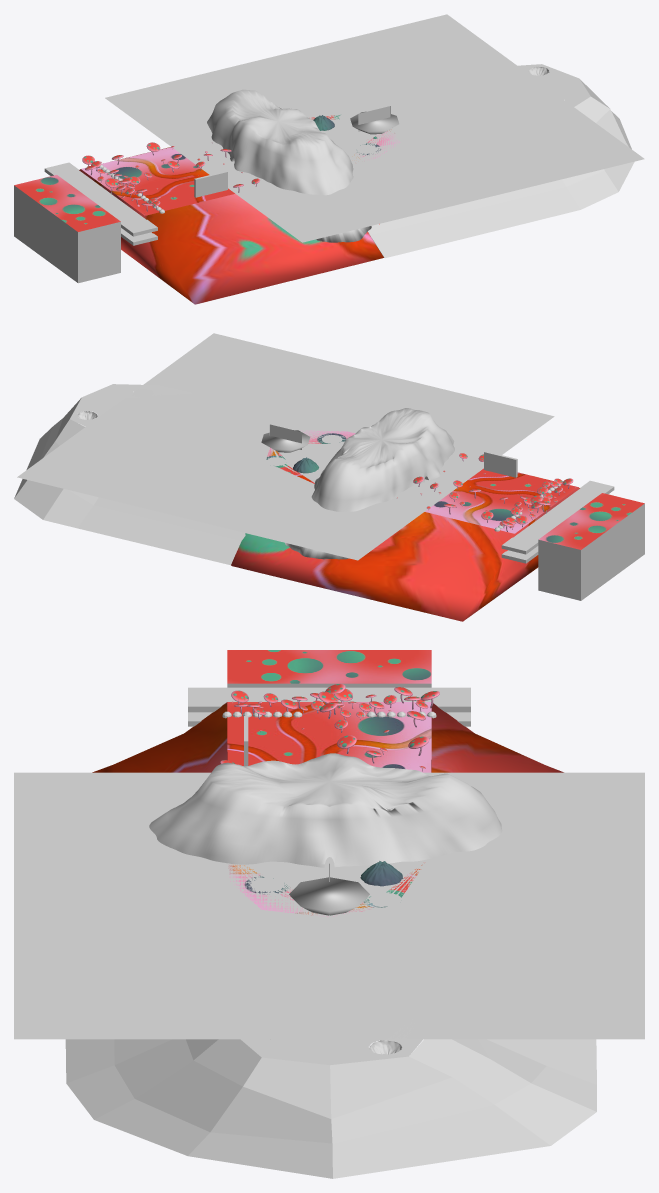
File: champi.glb
The picture shows the model from 3 angles, top to bottom: view 1: azimuth 30°, elevation 25°; view 2: azimuth 150°, elevation 25°; view 3: azimuth 270°, elevation 25°; orthographic projection. The views are drawn at different scales.
Parts seen in each view (by area): view 1: Plane.001, BaseMontagne.001, Montagne.001, BaseMontagne, SOL, Platfomre_Fin.001, Riviere.001, Floor, MurEnigme.001, ile volante.003; view 2: Plane.001, BaseMontagne.001, Montagne.001, BaseMontagne, SOL, Platfomre_Fin.001, Riviere.001, Floor, MurEnigme.001, ile volante.003; view 3: Plane.001, BaseMontagne, Montagne.001, SOL, BaseMontagne.001, Riviere.001, Floor, ile volante.003, Platfomre_Fin.001, ile volante.005.
Part boxes in pixels (<box>): Plane.001: <box>105,14,644,242</box>; BaseMontagne.001: <box>79,147,383,304</box>; Montagne.001: <box>207,89,371,242</box>; BaseMontagne: <box>367,79,634,258</box>; SOL: <box>14,115,400,231</box>; Platfomre_Fin.001: <box>14,185,120,283</box>; Riviere.001: <box>44,162,157,236</box>; Floor: <box>483,64,590,120</box>; MurEnigme.001: <box>194,171,227,197</box>; ile volante.003: <box>350,111,399,134</box>; Plane.001: <box>17,333,554,560</box>; BaseMontagne.001: <box>231,472,579,621</box>; Montagne.001: <box>285,408,454,559</box>; BaseMontagne: <box>14,398,245,565</box>; SOL: <box>266,430,644,549</box>; Platfomre_Fin.001: <box>538,503,644,600</box>; Riviere.001: <box>501,480,614,554</box>; Floor: <box>70,384,191,439</box>; MurEnigme.001: <box>484,451,517,477</box>; ile volante.003: <box>261,430,310,452</box>; Plane.001: <box>14,772,644,1039</box>; BaseMontagne: <box>65,1039,596,1178</box>; Montagne.001: <box>149,753,502,867</box>; SOL: <box>227,650,431,916</box>; BaseMontagne.001: <box>92,702,563,772</box>; Riviere.001: <box>188,687,470,712</box>; Floor: <box>228,1003,422,1065</box>; ile volante.003: <box>289,877,369,915</box>; Platfomre_Fin.001: <box>227,683,431,687</box>; ile volante.005: <box>360,861,403,886</box>.
Size of the model in its own units: 354 by 51.83 by 211.
Materials: 4 (2 with a texture image).
